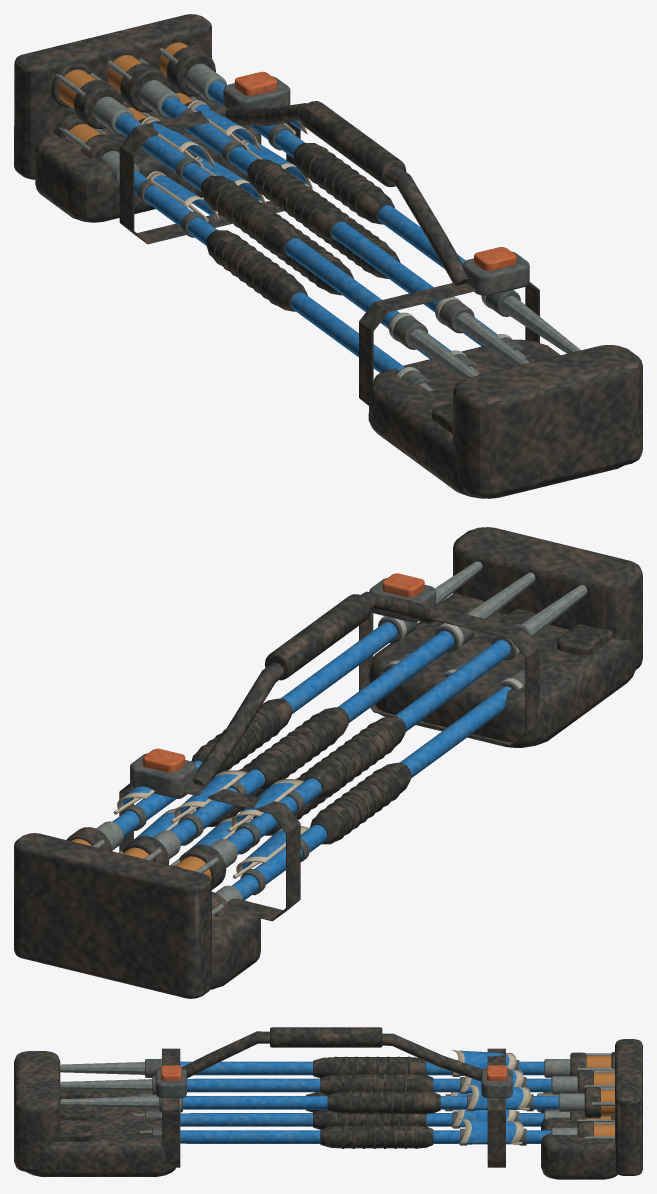
File: survey_stake_bundle.glb
3 views of the same model, one above another, from view 1: azimuth 30°, elevation 25°; view 2: azimuth 150°, elevation 25°; view 3: azimuth 270°, elevation 25° (orthographic). The views are drawn at different scales.
Visible parts, largest first — view 1: SurveyStakeBundle_hardware_graphite, Reinforced_shaft_slate_panel.003, Reinforced_shaft_slate_panel.004, SurveyStakeBundle_hardware_black_rubber, Reinforced_shaft_slate_panel, Stored_stake_1_hardware_black_rubber, Stored_stake_5_hardware_black_rubber, Stored_stake_6_hardware_black_rubber, Stored_stake_4_hardware_black_rubber, Reinforced_shaft_slate_panel.005, Stored_stake_6_hardware_alloy, Stored_stake_5_hardware_alloy (+20 smaller); view 2: SurveyStakeBundle_hardware_graphite, SurveyStakeBundle_hardware_black_rubber, Reinforced_shaft_slate_panel.004, Reinforced_shaft_slate_panel.003, Reinforced_shaft_slate_panel, Reinforced_shaft_slate_panel.005, Stored_stake_4_hardware_black_rubber, Stored_stake_1_hardware_black_rubber, Stored_stake_5_hardware_black_rubber, Stored_stake_6_hardware_black_rubber, Stored_stake_4_hardware_alloy, Cam_buckle_frame_dark_alloy (+13 smaller); view 3: SurveyStakeBundle_hardware_graphite, SurveyStakeBundle_hardware_black_rubber, Reinforced_shaft_slate_panel.004, Reinforced_shaft_slate_panel.005, Reinforced_shaft_slate_panel.002, Stored_stake_3_hardware_black_rubber, Stored_stake_6_hardware_black_rubber, Reinforced_shaft_slate_panel.001, Reinforced_shaft_slate_panel.003, Stored_stake_5_hardware_black_rubber, Stored_stake_4_hardware_black_rubber, Stored_stake_6_hardware_alloy (+26 smaller).
Part boxes in pixels (box(x1,y1,x2,y2)): SurveyStakeBundle_hardware_graphite: box(14, 14, 642, 498); Reinforced_shaft_slate_panel.003: box(115, 113, 399, 328); Reinforced_shaft_slate_panel.004: box(161, 97, 439, 311); SurveyStakeBundle_hardware_black_rubber: box(300, 101, 452, 433); Reinforced_shaft_slate_panel: box(134, 169, 404, 372); Stored_stake_1_hardware_black_rubber: box(206, 230, 307, 311); Stored_stake_5_hardware_black_rubber: box(247, 159, 348, 240); Stored_stake_6_hardware_black_rubber: box(293, 143, 394, 224); Stored_stake_4_hardware_black_rubber: box(200, 176, 302, 257); Reinforced_shaft_slate_panel.005: box(208, 80, 465, 268); Stored_stake_6_hardware_alloy: box(158, 46, 580, 353); Stored_stake_5_hardware_alloy: box(107, 59, 529, 366); SurveyStakeBundle_hardware_graphite: box(14, 527, 642, 998); SurveyStakeBundle_hardware_black_rubber: box(264, 592, 612, 680); Reinforced_shaft_slate_panel.004: box(169, 631, 454, 845); Reinforced_shaft_slate_panel.003: box(226, 639, 511, 854); Reinforced_shaft_slate_panel: box(231, 686, 511, 900); Reinforced_shaft_slate_panel.005: box(112, 622, 397, 837); Stored_stake_4_hardware_black_rubber: box(304, 716, 406, 797); Stored_stake_1_hardware_black_rubber: box(310, 762, 411, 844); Stored_stake_5_hardware_black_rubber: box(247, 707, 349, 788); Stored_stake_6_hardware_black_rubber: box(191, 698, 292, 774); Stored_stake_4_hardware_alloy: box(170, 584, 587, 873); Cam_buckle_frame_dark_alloy: box(130, 753, 196, 797); SurveyStakeBundle_hardware_graphite: box(14, 1031, 642, 1179); SurveyStakeBundle_hardware_black_rubber: box(56, 1027, 382, 1141); Reinforced_shaft_slate_panel.004: box(187, 1078, 551, 1092); Reinforced_shaft_slate_panel.005: box(183, 1096, 558, 1109); Reinforced_shaft_slate_panel.002: box(180, 1130, 551, 1143); Stored_stake_3_hardware_black_rubber: box(320, 1125, 433, 1148); Stored_stake_6_hardware_black_rubber: box(327, 1090, 440, 1114); Reinforced_shaft_slate_panel.001: box(180, 1113, 544, 1126); Reinforced_shaft_slate_panel.003: box(180, 1061, 544, 1075); Stored_stake_5_hardware_black_rubber: box(320, 1073, 433, 1095); Stored_stake_4_hardware_black_rubber: box(313, 1056, 426, 1077); Stored_stake_6_hardware_alloy: box(60, 1087, 614, 1116).
Bounding box in the file's own units: 0.228 × 0.2175 × 0.962.
9 materials, 8 textured.
